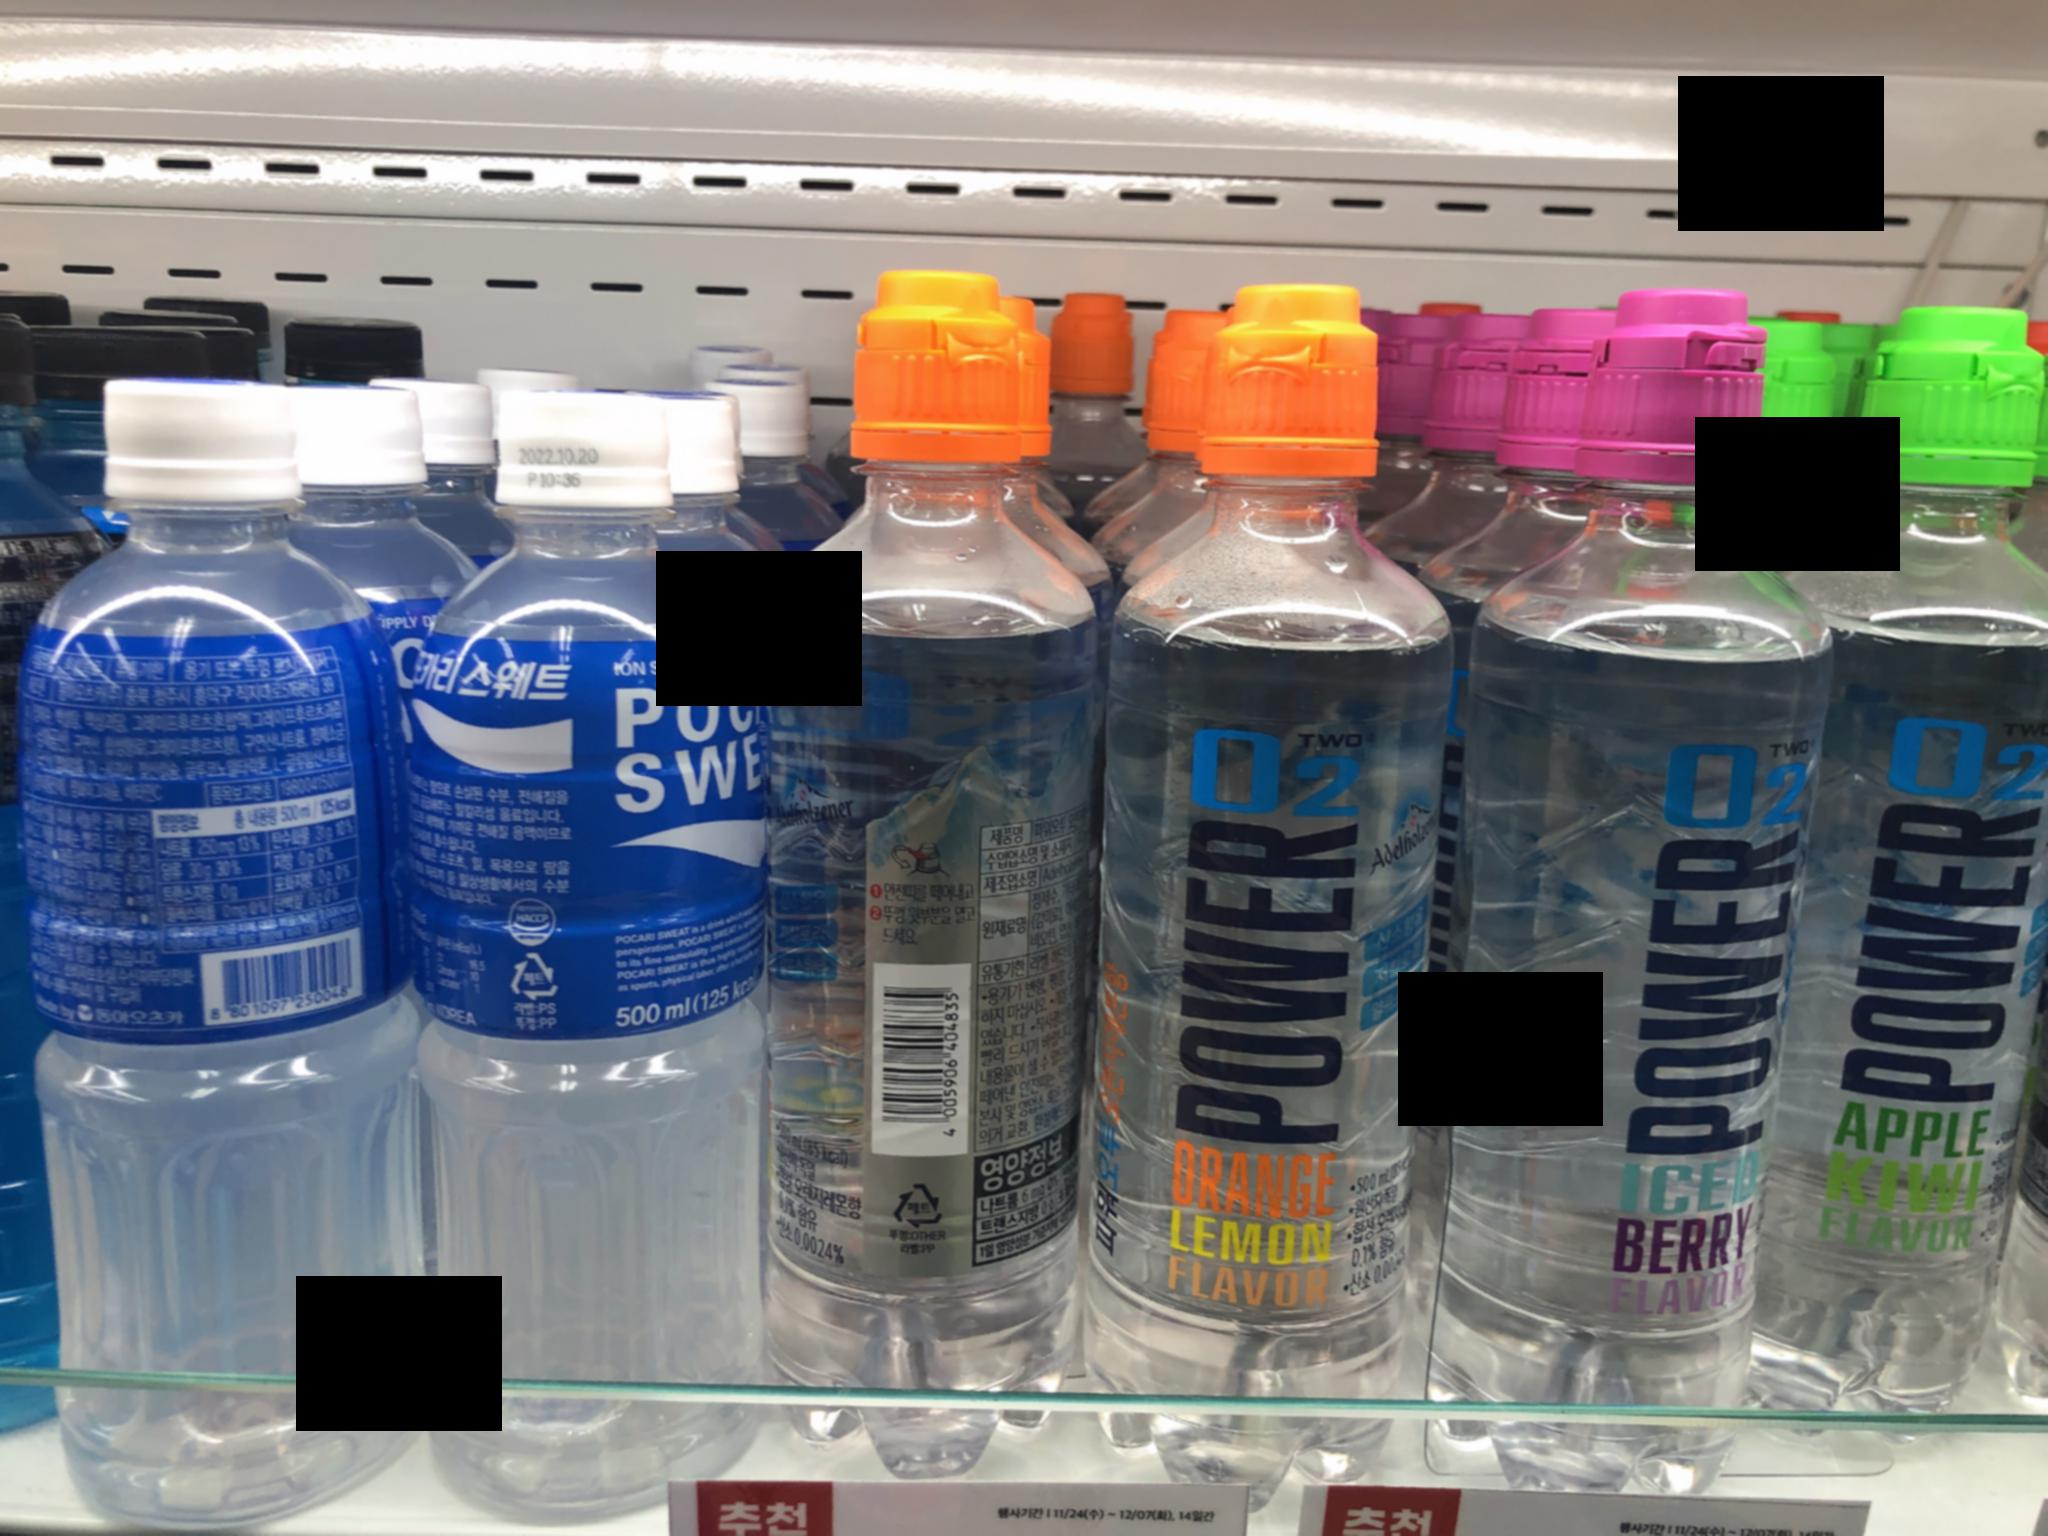pocarisweat: (31, 373, 424, 1534), (429, 373, 755, 1531)
powerO2_orange: (772, 239, 1098, 1478), (1111, 231, 1419, 1476)
